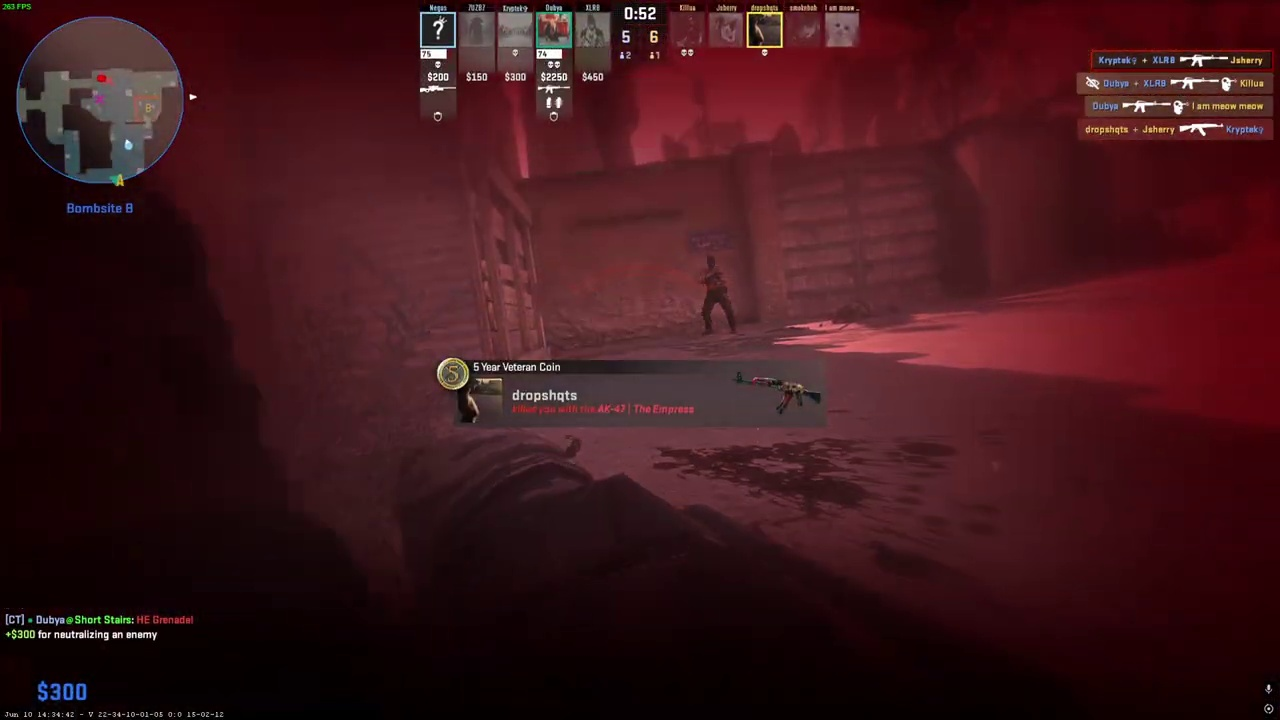Terrorist: (696, 255, 735, 335)
